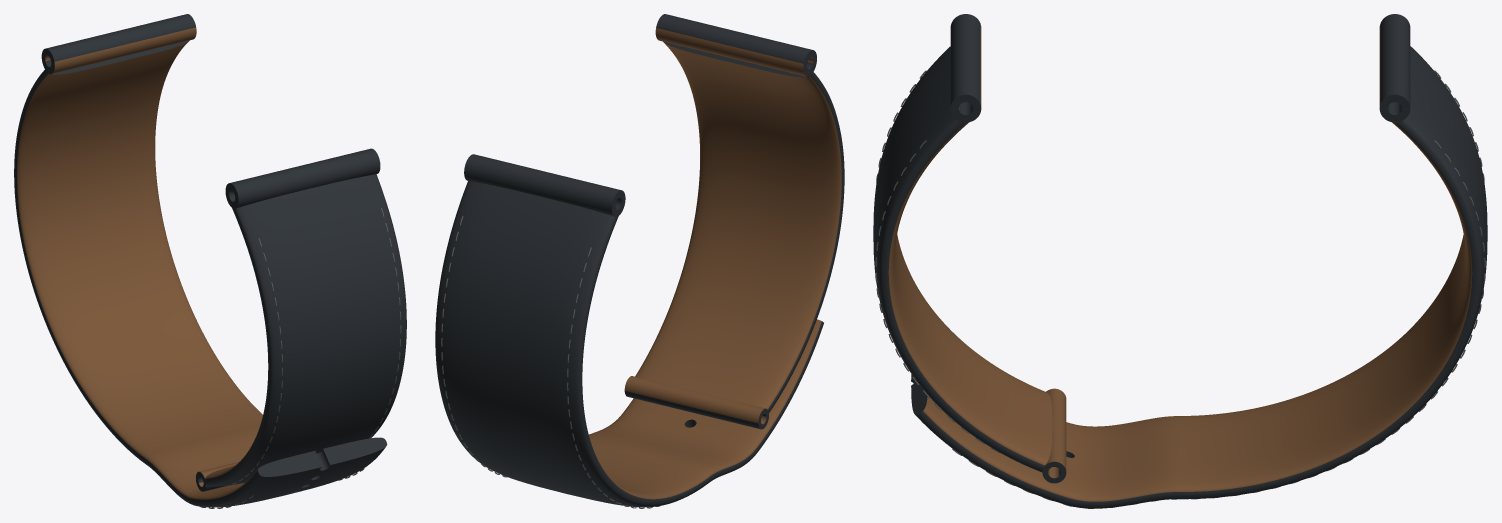
Rendered from leather-detail.glb.
The picture shows the model from 3 angles, left to right: view 1: azimuth 30°, elevation 25°; view 2: azimuth 150°, elevation 25°; view 3: azimuth 270°, elevation 25°; orthographic projection. The views are drawn at different scales.
Visible parts, largest first — view 1: Upper strap · solid padded band and rolled end.001, Lower strap · solid padded band and rolled end.001, QUALITY / STRAP-LOWER removable saddle stitch proposal; view 2: Upper strap · solid padded band and rolled end.001, Lower strap · solid padded band and rolled end.001, QUALITY / STRAP-UPPER removable saddle stitch proposal; view 3: Upper strap · solid padded band and rolled end.001, Lower strap · solid padded band and rolled end.001, QUALITY / STRAP-UPPER removable saddle stitch proposal.
Boxes of the visible parts, x1=… form: Upper strap · solid padded band and rolled end.001: x1=14, y1=14, x2=387, y2=507; Lower strap · solid padded band and rolled end.001: x1=196, y1=148, x2=406, y2=491; QUALITY / STRAP-LOWER removable saddle stitch proposal: x1=232, y1=208, x2=401, y2=484; Upper strap · solid padded band and rolled end.001: x1=435, y1=154, x2=823, y2=507; Lower strap · solid padded band and rolled end.001: x1=624, y1=14, x2=844, y2=429; QUALITY / STRAP-UPPER removable saddle stitch proposal: x1=441, y1=216, x2=659, y2=508; Upper strap · solid padded band and rolled end.001: x1=911, y1=14, x2=1487, y2=508; Lower strap · solid padded band and rolled end.001: x1=873, y1=14, x2=1066, y2=483; QUALITY / STRAP-UPPER removable saddle stitch proposal: x1=952, y1=70, x2=1485, y2=508.
Size of the model in its own units: 20 by 48.84 by 64.14.
